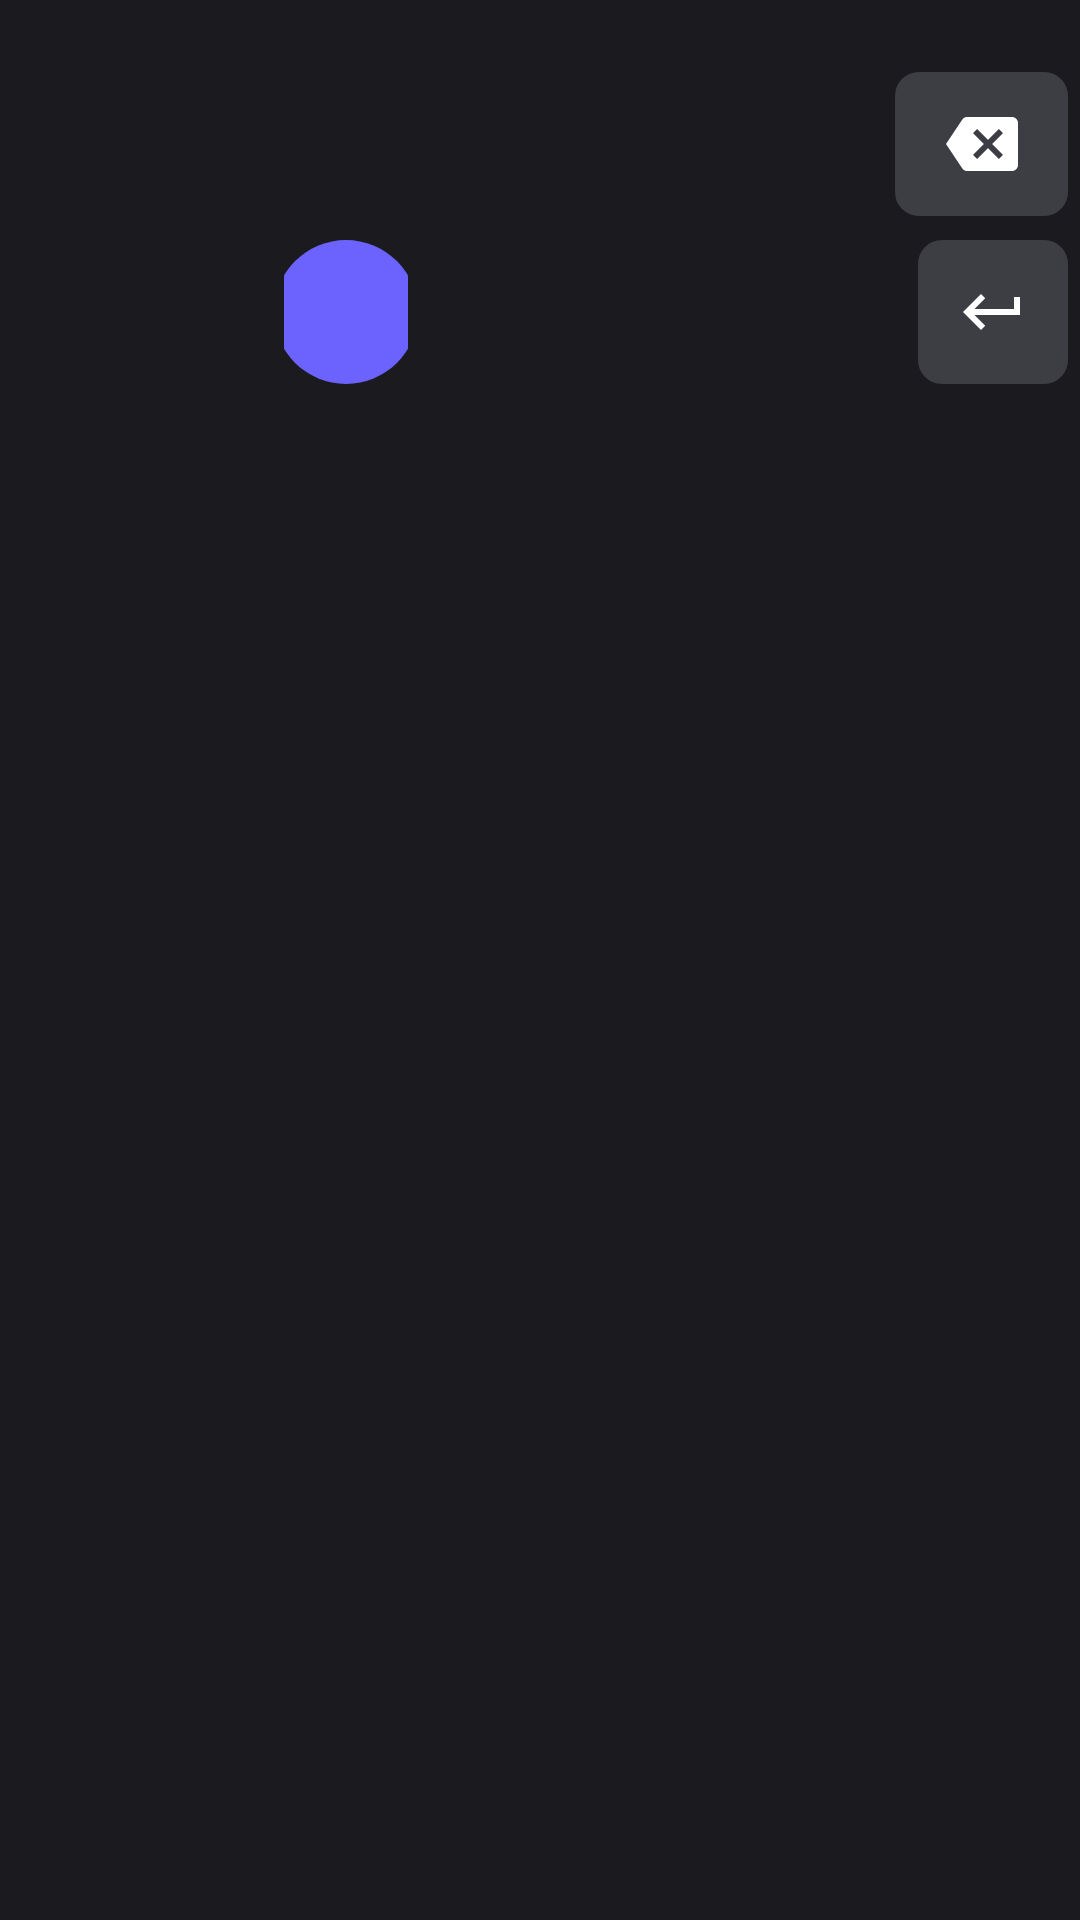

Screen size 1080 x 1920. Icon name, then its box in pixels as (x1, y1, x2, y2):
Backspace: (895, 72, 1068, 216)
Enter: (918, 240, 1068, 384)
